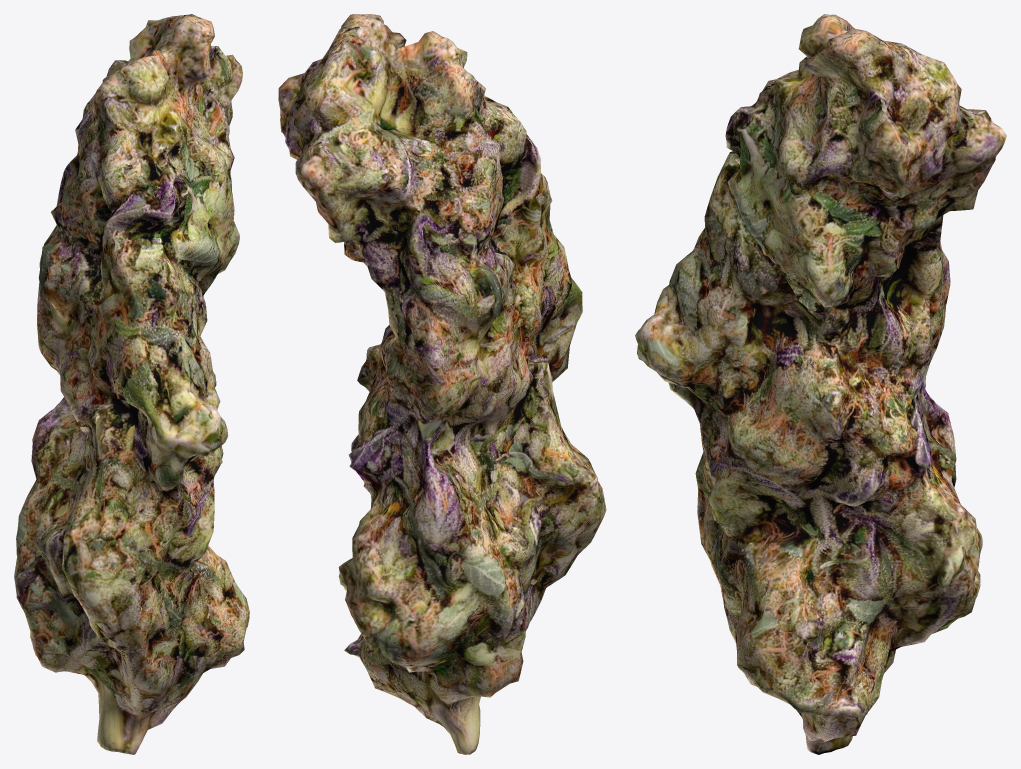
The model's file is 3. ganja gulung .fbx.
The picture shows the model from 3 angles, left to right: view 1: azimuth 30°, elevation 25°; view 2: azimuth 150°, elevation 25°; view 3: azimuth 270°, elevation 25°; orthographic projection. The views are drawn at different scales.
Visible parts, largest first — view 1: marijuana_bud_3; view 2: marijuana_bud_3; view 3: marijuana_bud_3.
Boxes of the visible parts, box(x1,y1,x2,y2) form: marijuana_bud_3: box(14, 14, 249, 754); marijuana_bud_3: box(278, 14, 606, 754); marijuana_bud_3: box(635, 14, 1006, 754).
Size of the model in its own units: 719 by 1976 by 875.
